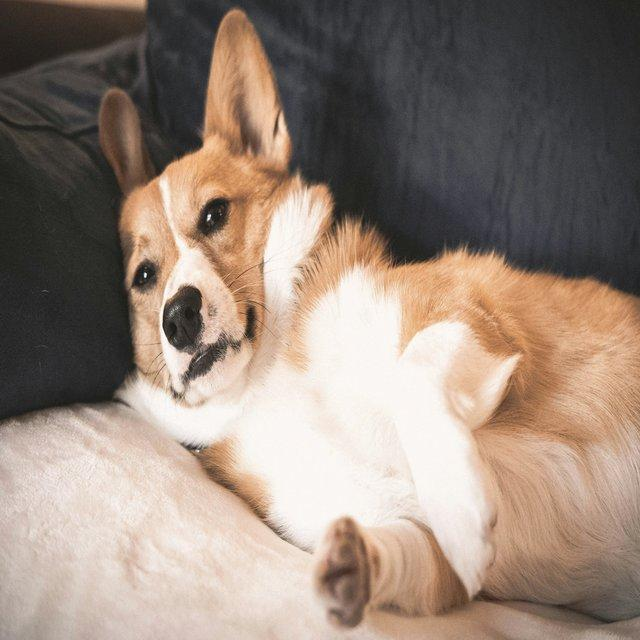corgi: (96, 7, 639, 627)
